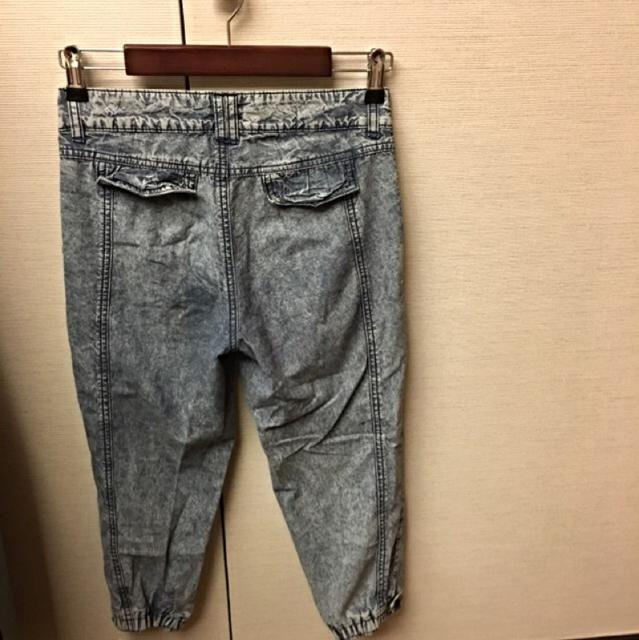Pants_Leggings: (58, 84, 410, 633)
